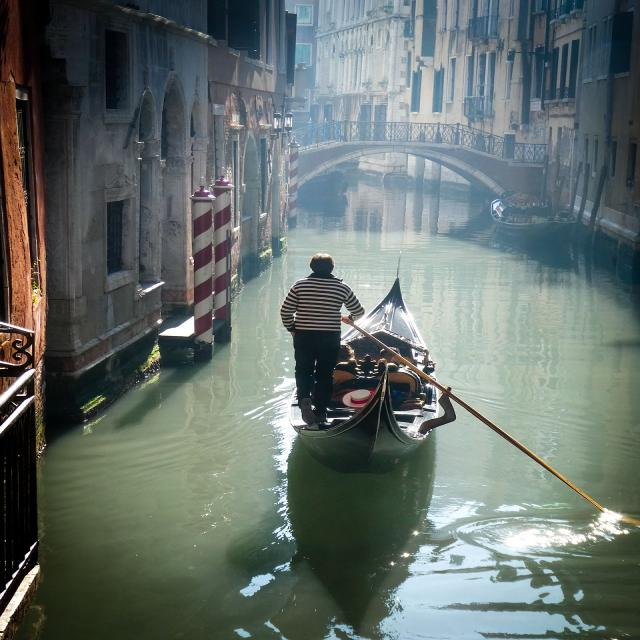boat: (276, 239, 464, 488)
